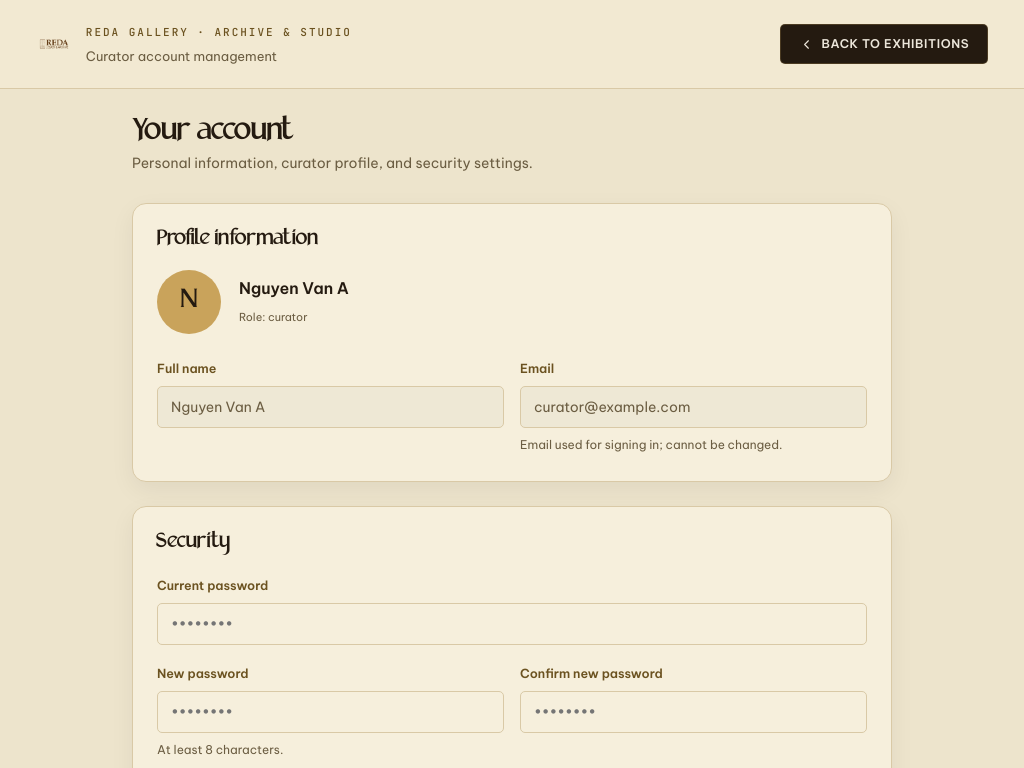
Scenario: Account component › disables submit button and shows error when passwords mismatch
In the password field labelled "Current password": (512, 624) [157, 603, 867, 645], type "oldpass123"
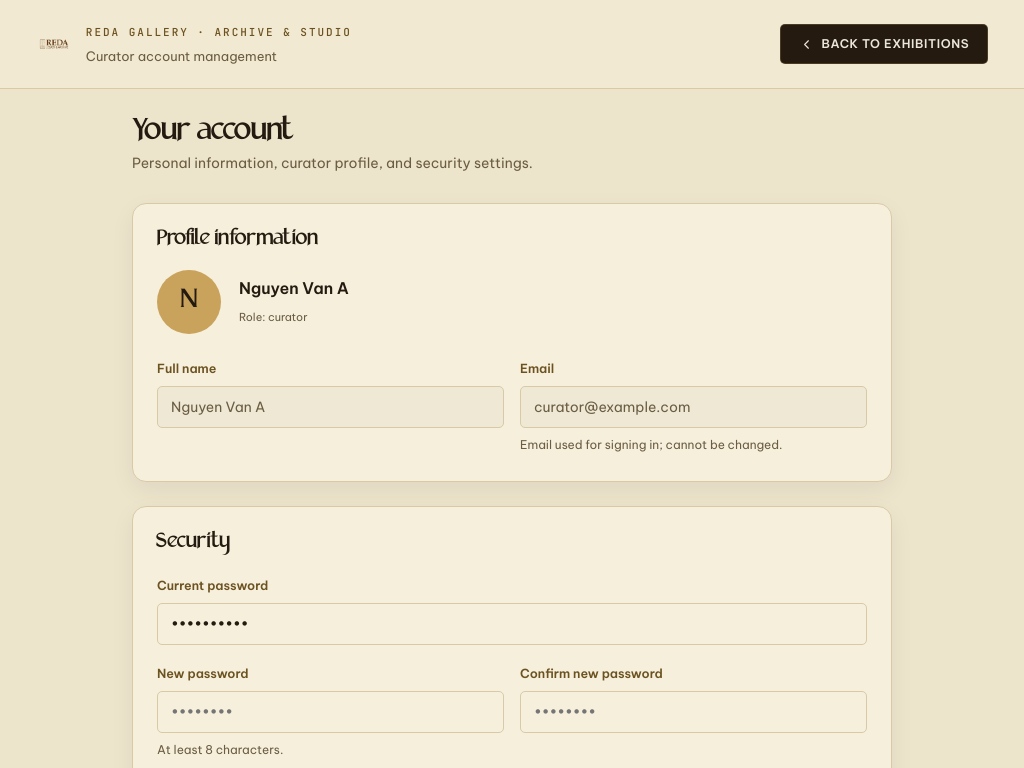
In the password field labelled "New password": (330, 712) [157, 691, 504, 733], type "password123"
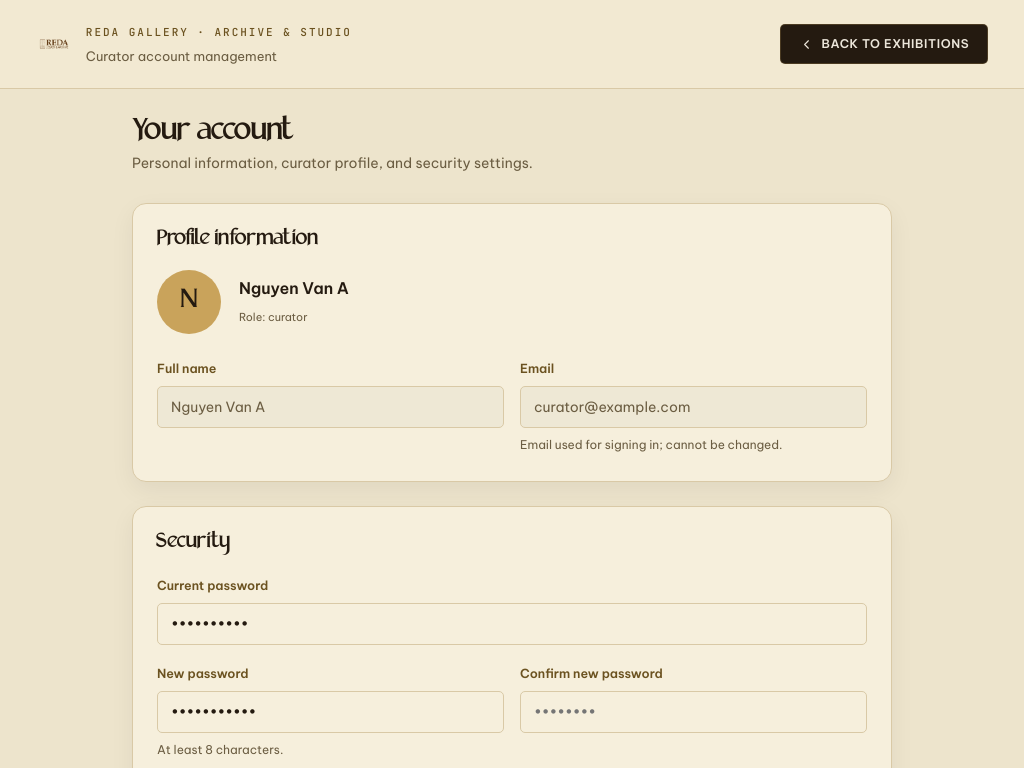
In the password field labelled "Confirm new password": (694, 712) [520, 691, 867, 733], type "passwordXYZ"
(page scrolled)
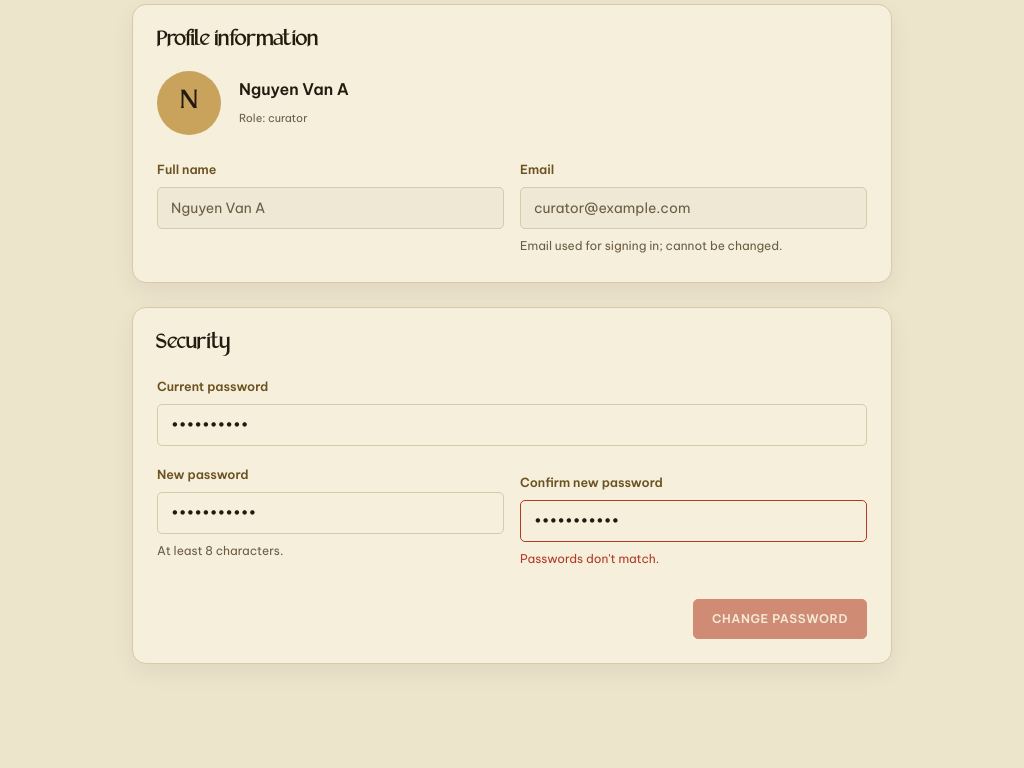
Expected: the button "Change password" is disabled, [693, 599, 867, 639]
Expected: the text "Passwords don't match." is shown, [520, 551, 659, 566]
